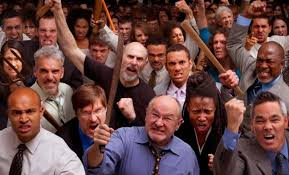Angry: (254, 113, 282, 145), (9, 105, 39, 134), (149, 106, 176, 136), (81, 107, 104, 135), (191, 106, 214, 129), (124, 54, 144, 74), (38, 26, 57, 47), (257, 55, 274, 78), (167, 59, 187, 78), (254, 23, 267, 39)
